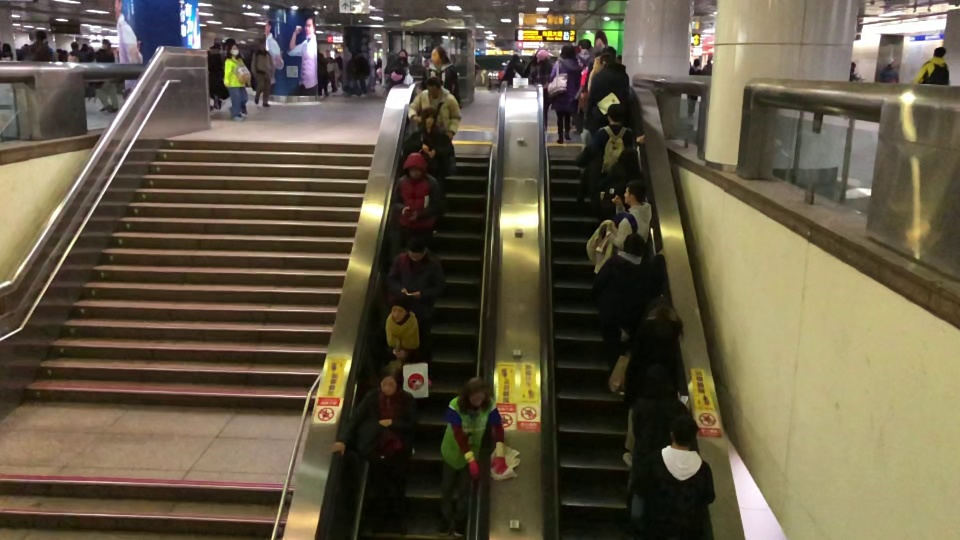person_head: (669, 414, 699, 446), (463, 375, 492, 406), (378, 365, 404, 396), (387, 291, 411, 323), (645, 365, 669, 397), (622, 178, 647, 205), (402, 152, 427, 178), (403, 234, 428, 260), (621, 231, 647, 255), (617, 147, 640, 172), (646, 293, 669, 314), (606, 103, 625, 125), (420, 106, 438, 128), (431, 46, 448, 66), (426, 75, 441, 96), (561, 43, 576, 57), (34, 29, 49, 42), (227, 43, 240, 57), (536, 48, 549, 62), (600, 51, 613, 64), (397, 46, 408, 60), (933, 46, 947, 57), (885, 55, 896, 68), (580, 38, 591, 50), (102, 38, 111, 50), (255, 40, 265, 50), (3, 42, 12, 53), (210, 44, 221, 53), (510, 53, 521, 62), (70, 40, 79, 49), (693, 57, 700, 68), (850, 60, 856, 71), (326, 49, 332, 57)
person_vbox: (330, 364, 417, 537), (619, 293, 684, 468), (440, 374, 508, 539), (370, 291, 428, 459), (630, 366, 691, 524), (384, 234, 444, 393), (642, 414, 716, 539), (592, 231, 665, 353), (404, 106, 457, 234), (390, 150, 445, 237), (584, 50, 630, 138), (592, 104, 648, 174), (407, 75, 462, 141), (605, 178, 653, 253), (550, 42, 582, 146), (601, 148, 641, 214), (421, 46, 462, 109), (223, 43, 251, 123), (528, 48, 552, 139), (94, 39, 120, 113), (251, 39, 276, 111), (909, 46, 950, 86), (207, 44, 229, 113), (388, 46, 412, 90), (685, 57, 700, 119), (24, 30, 53, 62), (325, 47, 340, 95), (878, 55, 900, 83), (502, 52, 521, 83), (67, 39, 85, 63), (849, 59, 866, 83), (578, 38, 592, 66), (0, 42, 13, 60)
